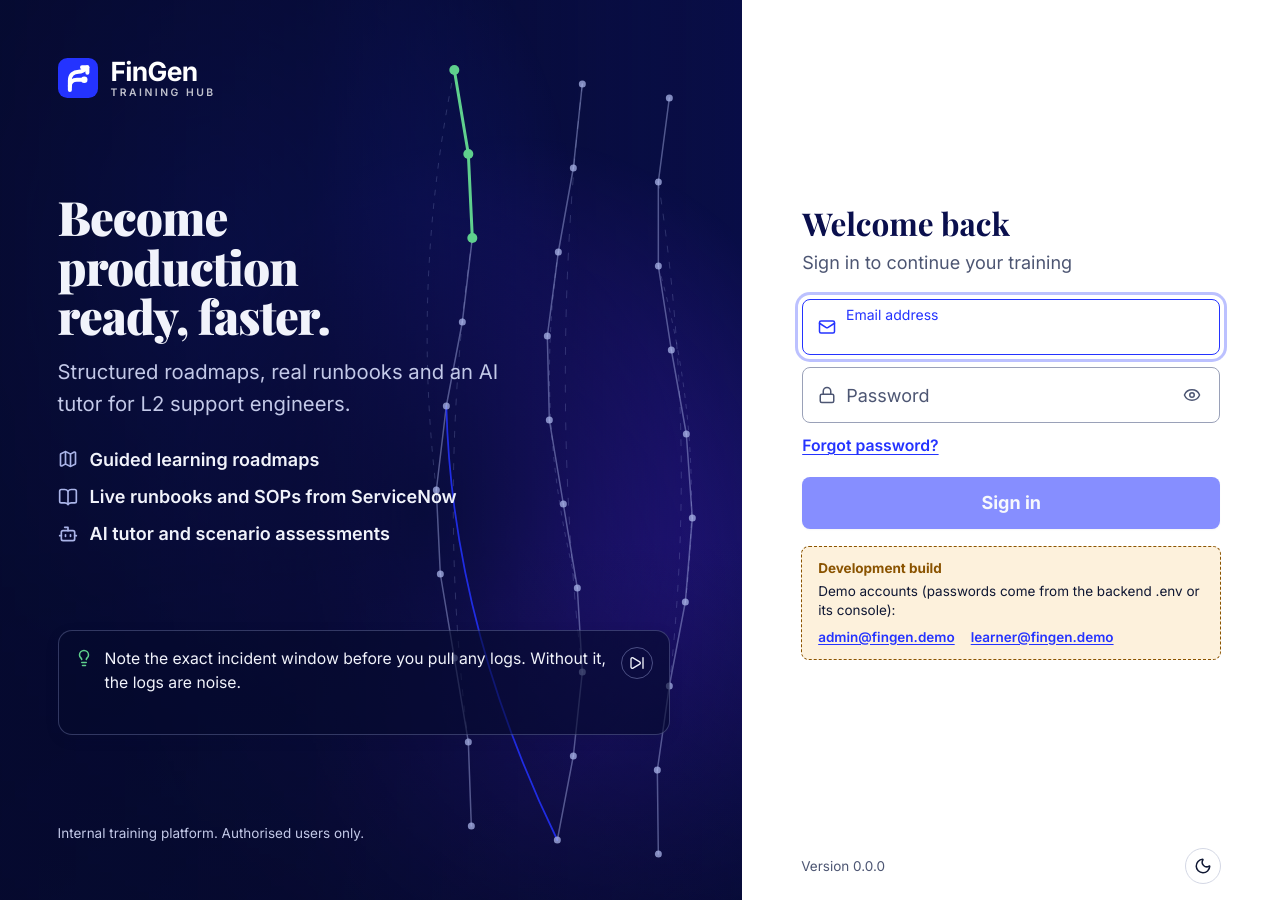
Test: sign in page › explains what to do about a forgotten password
What coordinates should you click on to do the following:
click the button "Forgot password?"
I would click on:
 (870, 446)
Its box is [802,435,939,457].
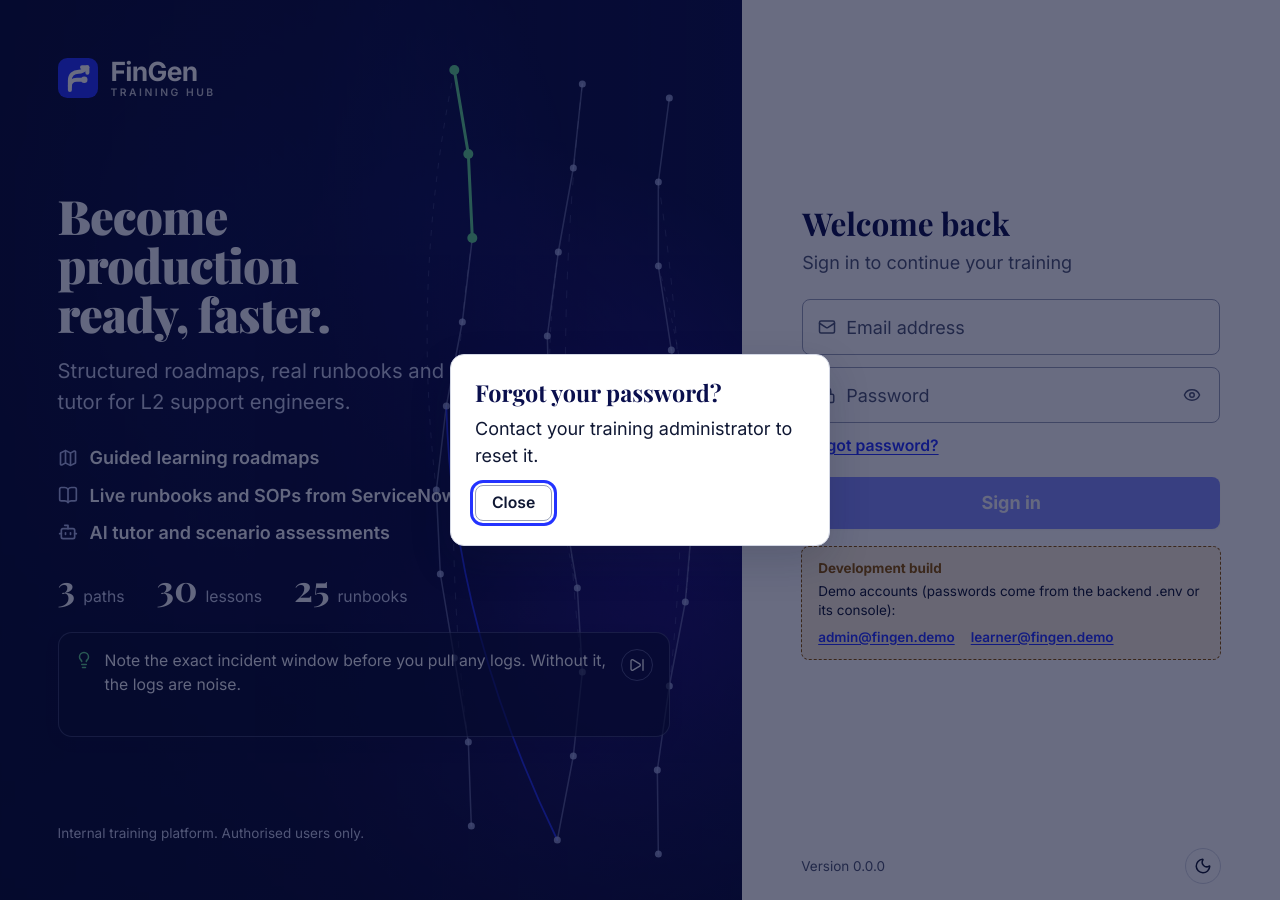
Result: the dialog "Forgot your password?" shows "Contact your training administrator to reset it." at [475,418,792,466]
